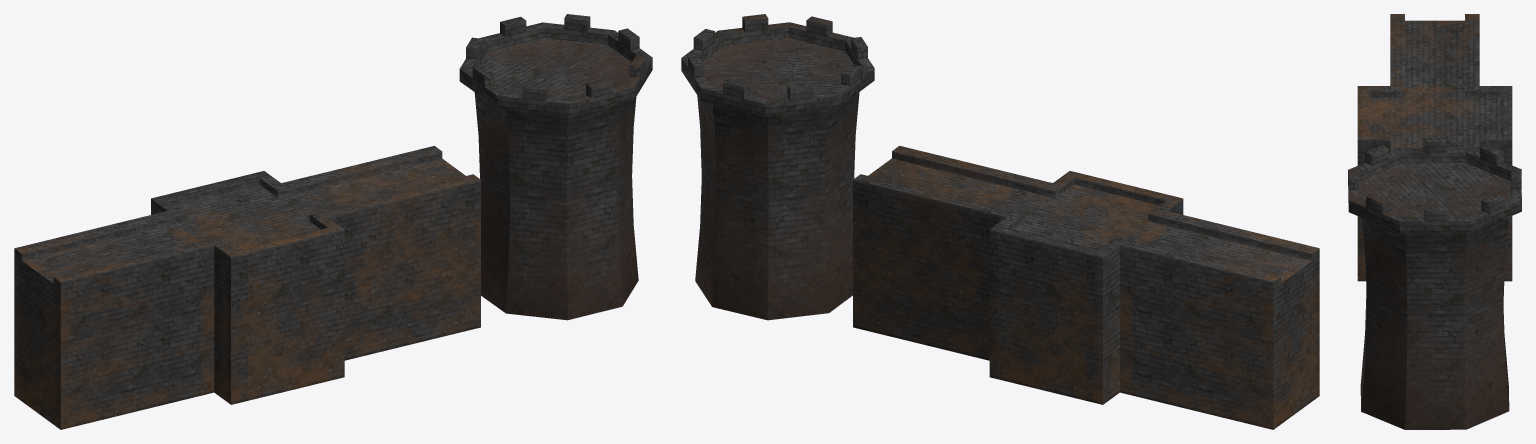
The model's file is Benteng.fbx.
3 views of the same model, side by side, from view 1: azimuth 30°, elevation 25°; view 2: azimuth 150°, elevation 25°; view 3: azimuth 270°, elevation 25° (orthographic). The views are drawn at different scales.
Parts seen in each view (by area): view 1: Cube, Circle; view 2: Cube, Circle; view 3: Circle, Cube.
Boxes of the visible parts, x1,y1,x2,y2 form: Cube: (14,146,480,429); Circle: (459,14,652,320); Cube: (853,145,1319,429); Circle: (681,14,874,320); Circle: (1348,137,1521,429); Cube: (1357,14,1512,281).
Bounding box in the file's own units: 9012 × 3383 × 2363.
